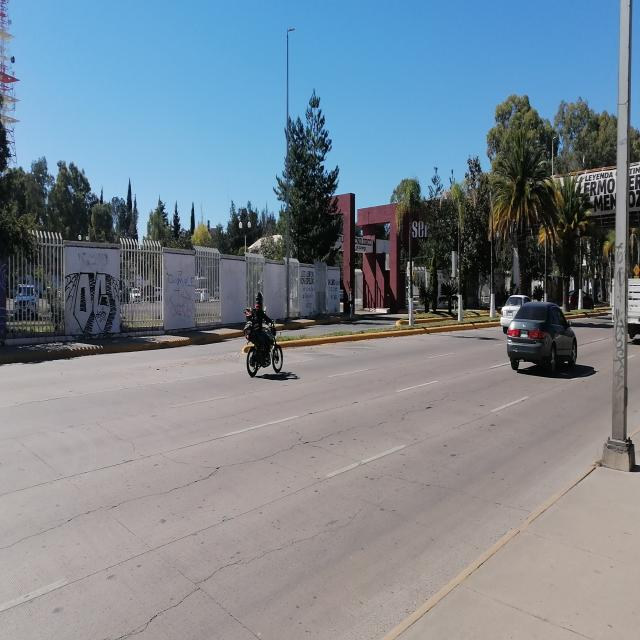Auto: (508, 306, 578, 376), (500, 288, 526, 328)
